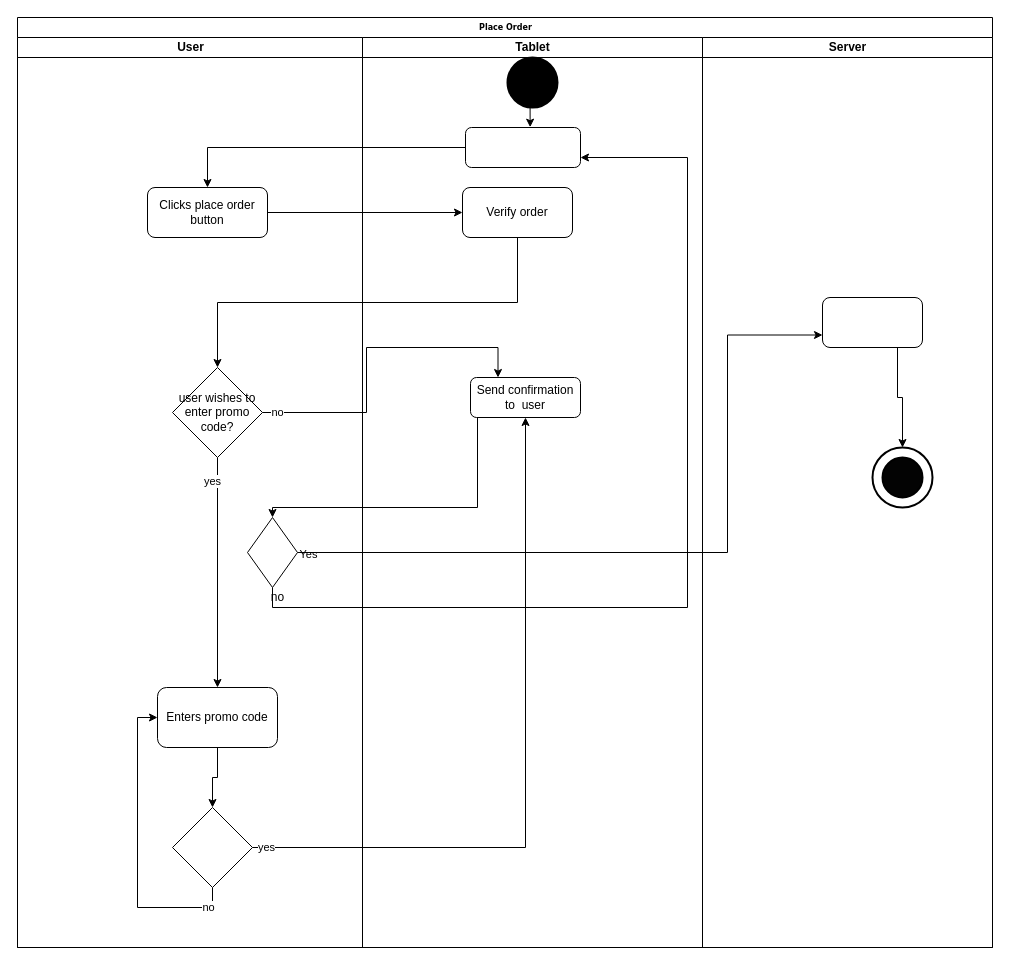
The diagram is 1010 pixels wide and 965 high, and some of its shapes have lost their labels. Each missing label, with the centre of its shape:
"confirm?" goes at pixel 272 552.
"promo code valid" goes at pixel 212 847.
"Send order request" goes at pixel 872 322.
"Show cart" goes at pixel 522 147.
